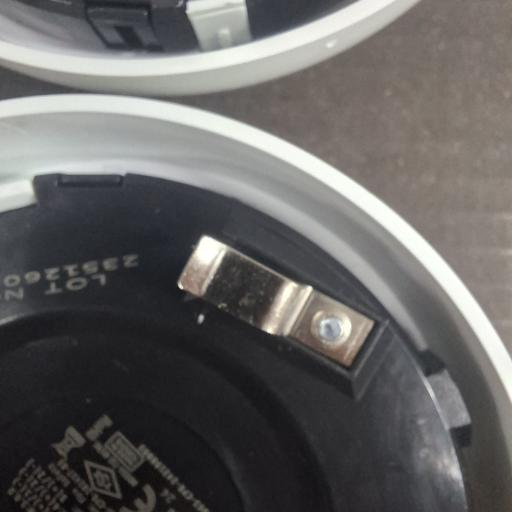yaysiz: (175, 234, 372, 369)
